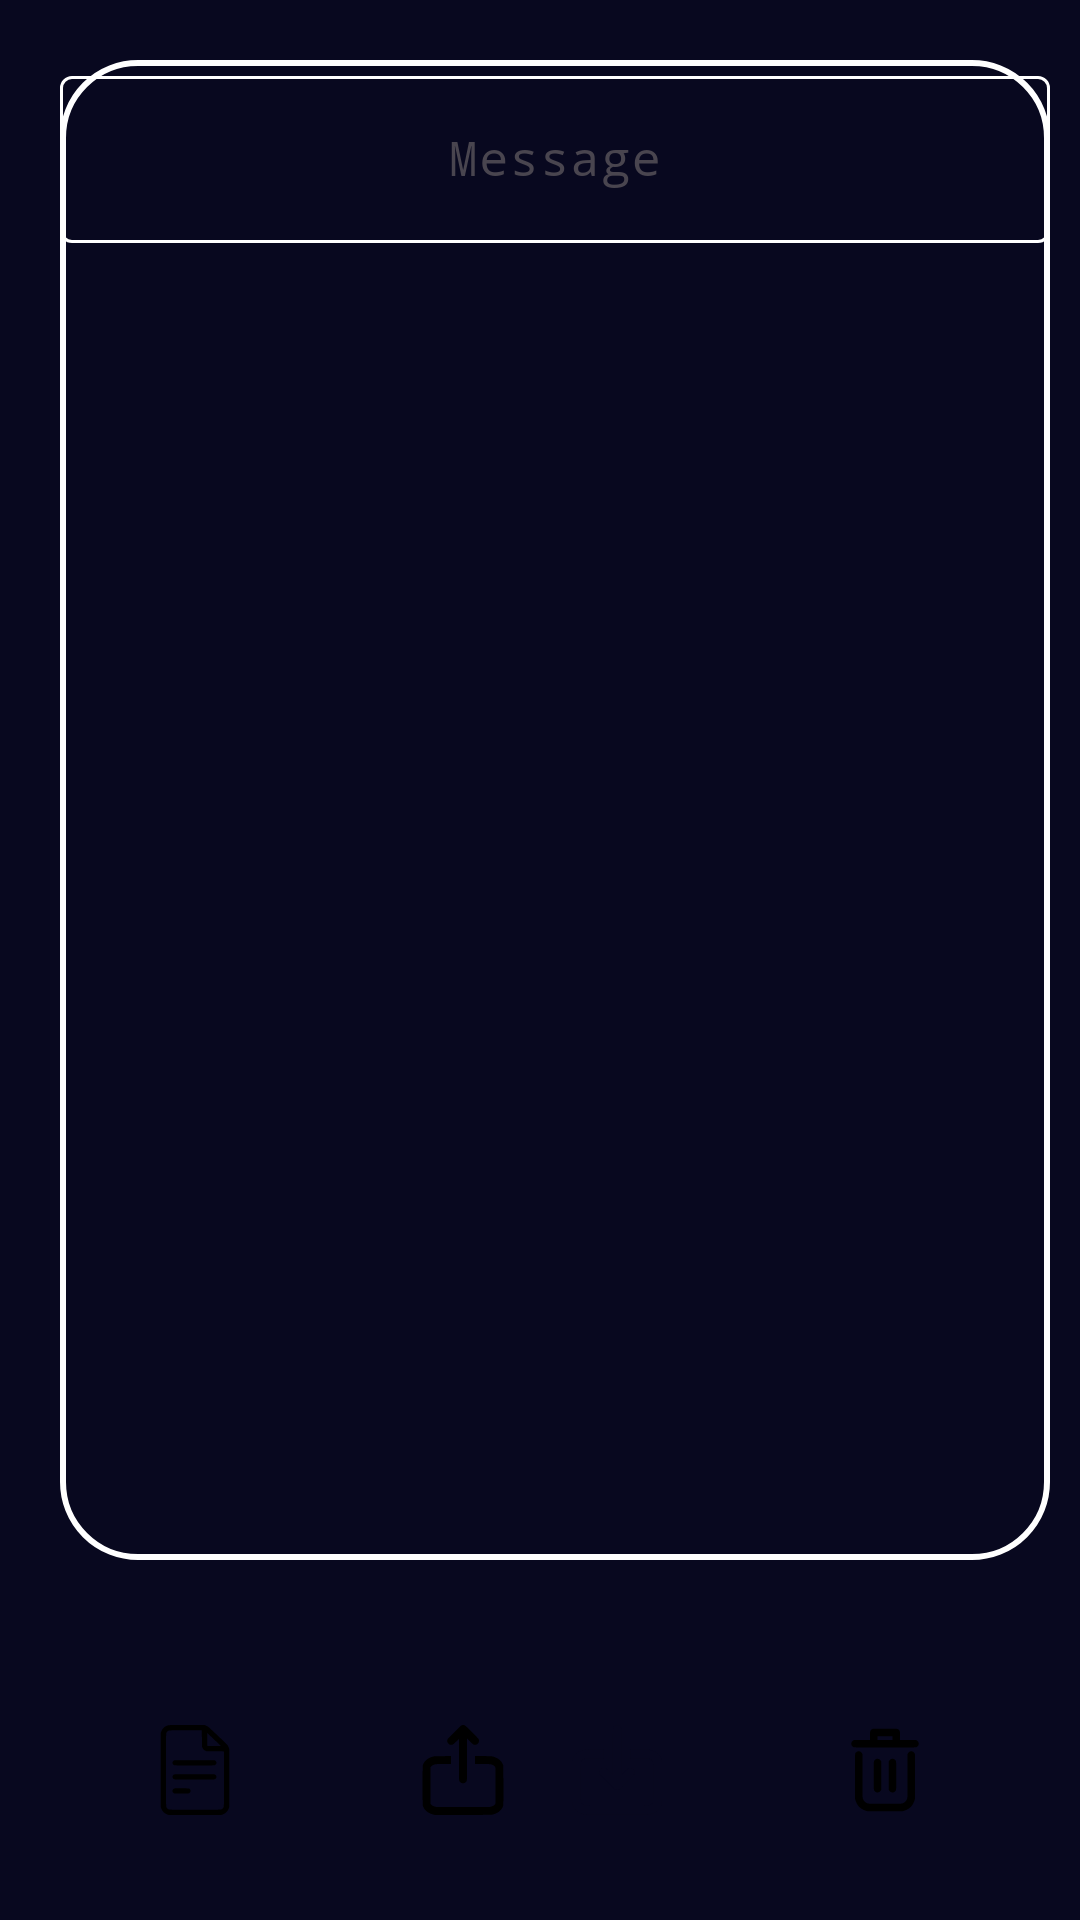

Named icons in this screenshot (1080 × 1920) and their bounding boxes, (x1, y1, x2, y2):
delete: (852, 1729, 918, 1811)
export: (423, 1725, 503, 1815)
read: (161, 1725, 229, 1815)
